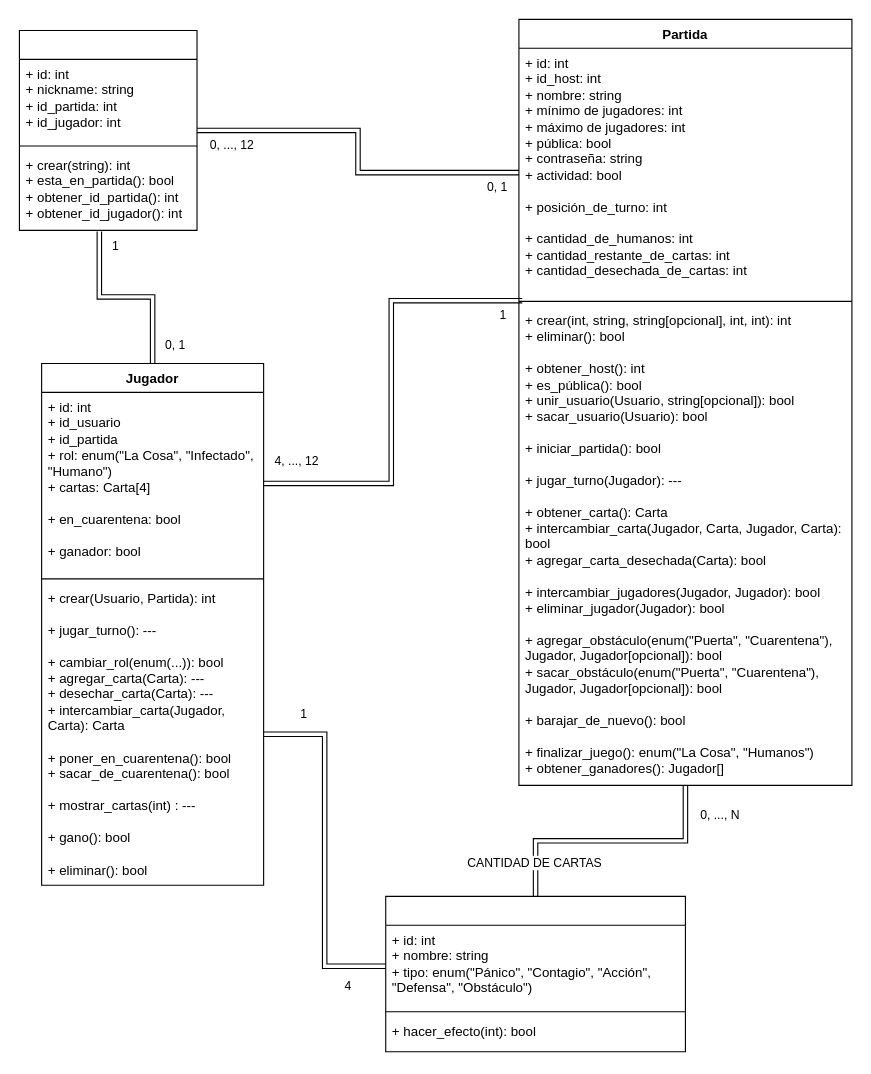
Image size: 871x1074. Some labels were removed from this diagram. The box of each missing label's shape, as (x1, y1, x2, y2) in pixels:
Cartas: (385, 895, 685, 1052)
Usuario: (18, 29, 197, 230)
